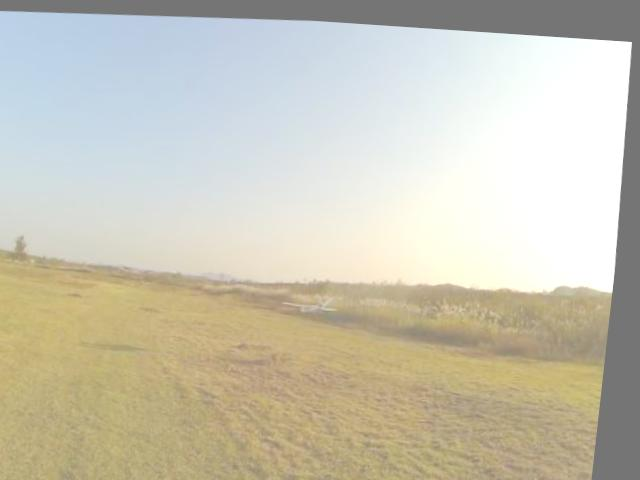uav: (283, 280, 352, 320)
